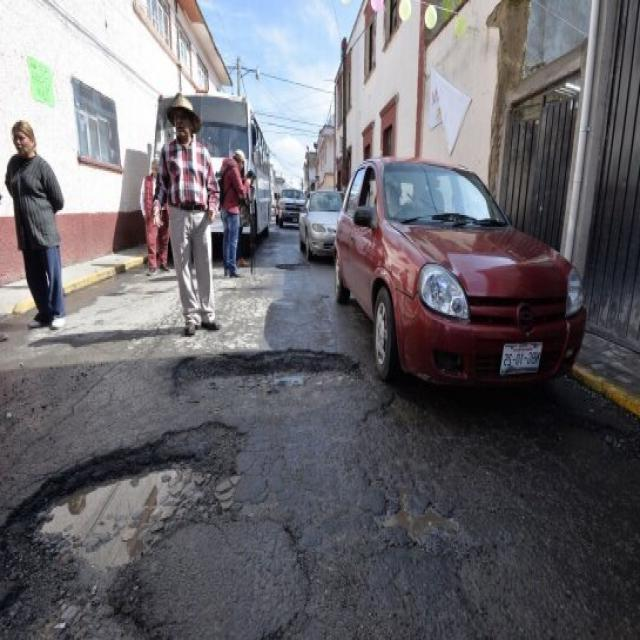pothole: (0, 401, 270, 630), (154, 332, 370, 403), (256, 259, 316, 305)
